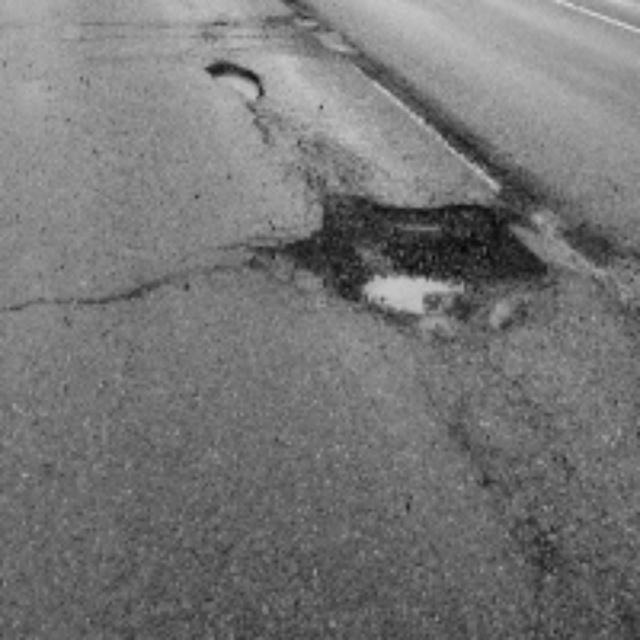Pothole: (329, 185, 497, 349), (209, 53, 285, 124)
